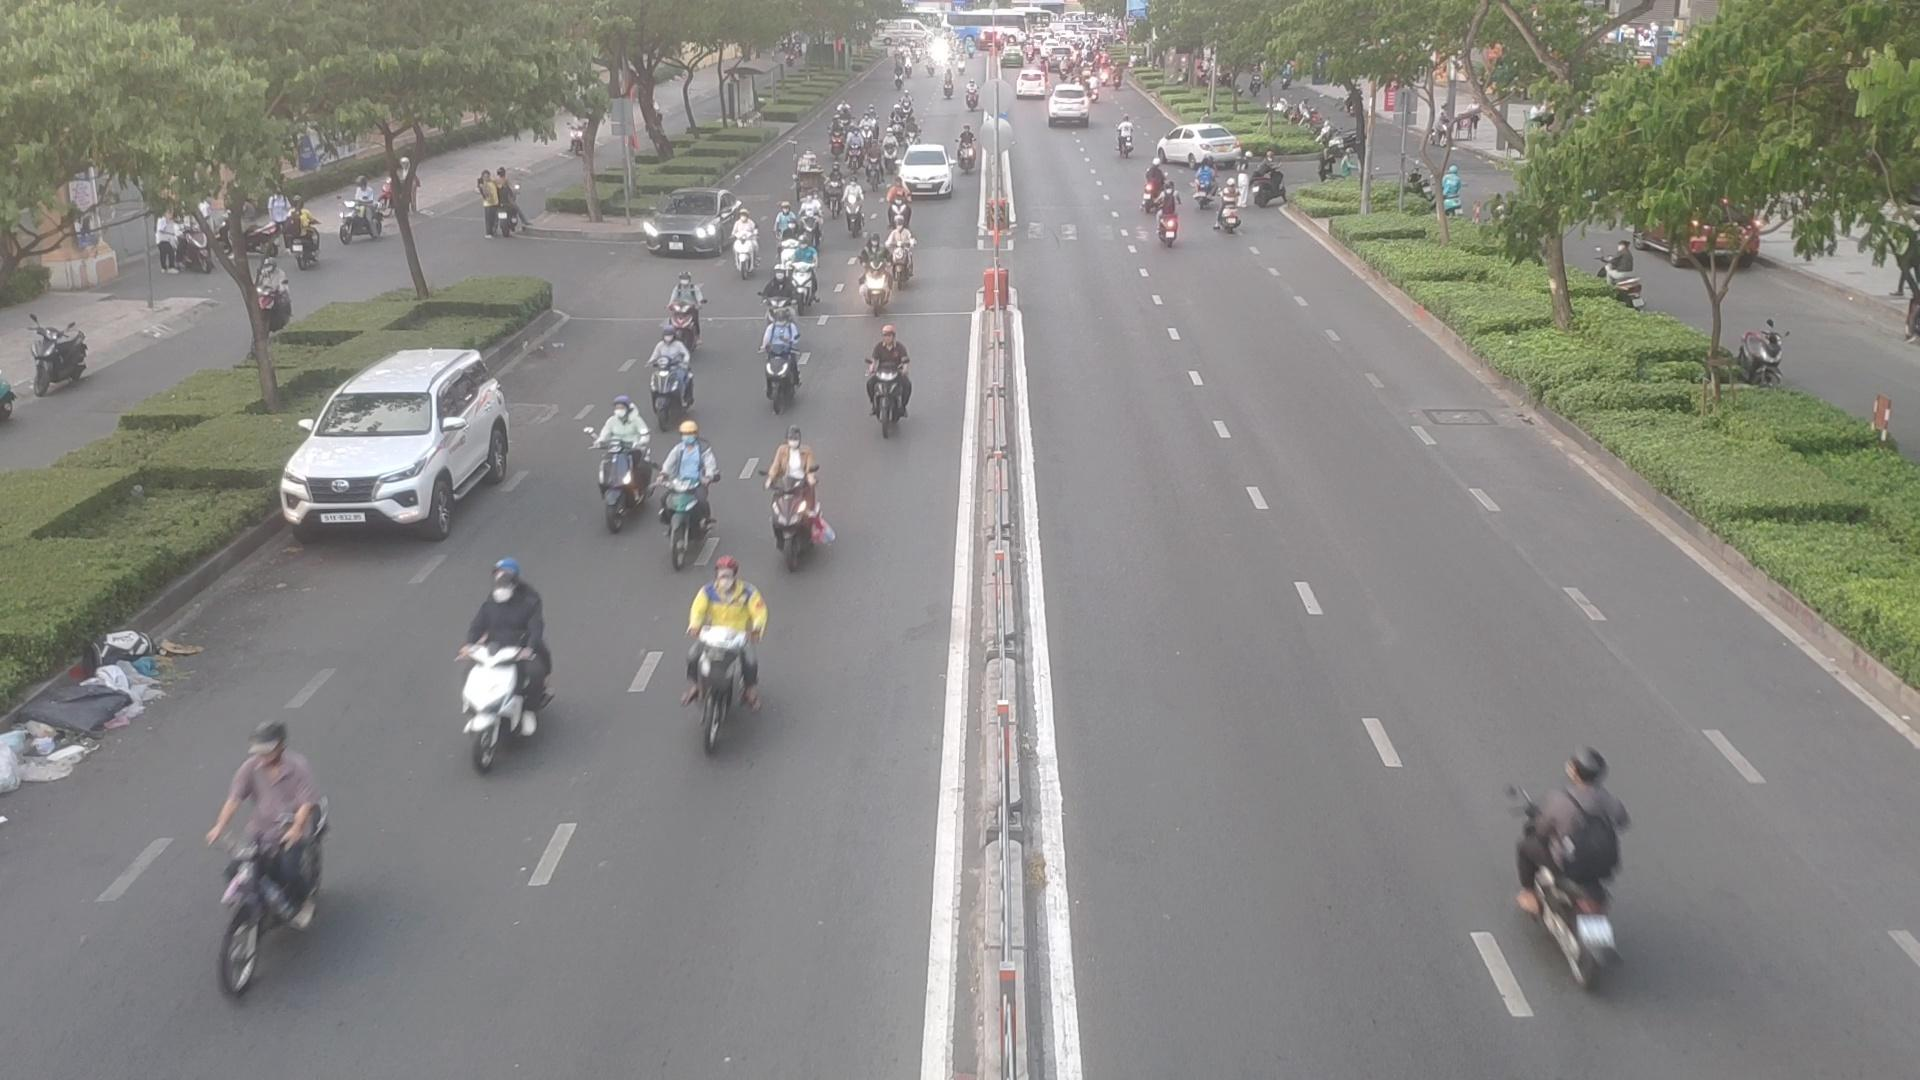car: (280, 345, 518, 538), (645, 191, 750, 260), (1163, 125, 1250, 171), (897, 142, 957, 195)
motorbike: (191, 711, 331, 984), (446, 566, 559, 794), (1509, 733, 1609, 984), (679, 545, 769, 749), (764, 415, 829, 576), (659, 419, 717, 567), (582, 401, 647, 527), (756, 309, 808, 407), (872, 335, 916, 440), (665, 266, 705, 351), (646, 332, 684, 415), (861, 231, 890, 301), (1156, 185, 1185, 247), (765, 266, 794, 326), (796, 237, 823, 302), (731, 211, 754, 282), (884, 178, 909, 237), (956, 123, 981, 178), (1216, 179, 1240, 236), (891, 218, 909, 284), (1145, 158, 1163, 219), (845, 179, 866, 231), (862, 142, 884, 194), (804, 191, 824, 243), (901, 109, 920, 154), (828, 113, 843, 164), (1191, 171, 1209, 210), (1116, 113, 1131, 157), (827, 166, 843, 208), (881, 127, 897, 167), (782, 220, 793, 272), (849, 127, 862, 167), (862, 109, 870, 152)
